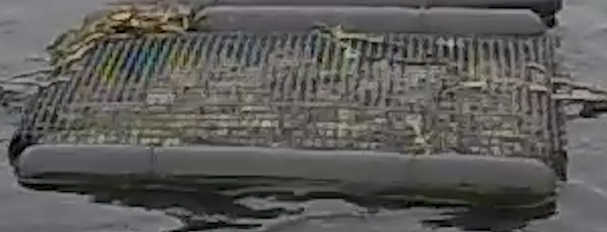bag: (9, 3, 570, 204)
